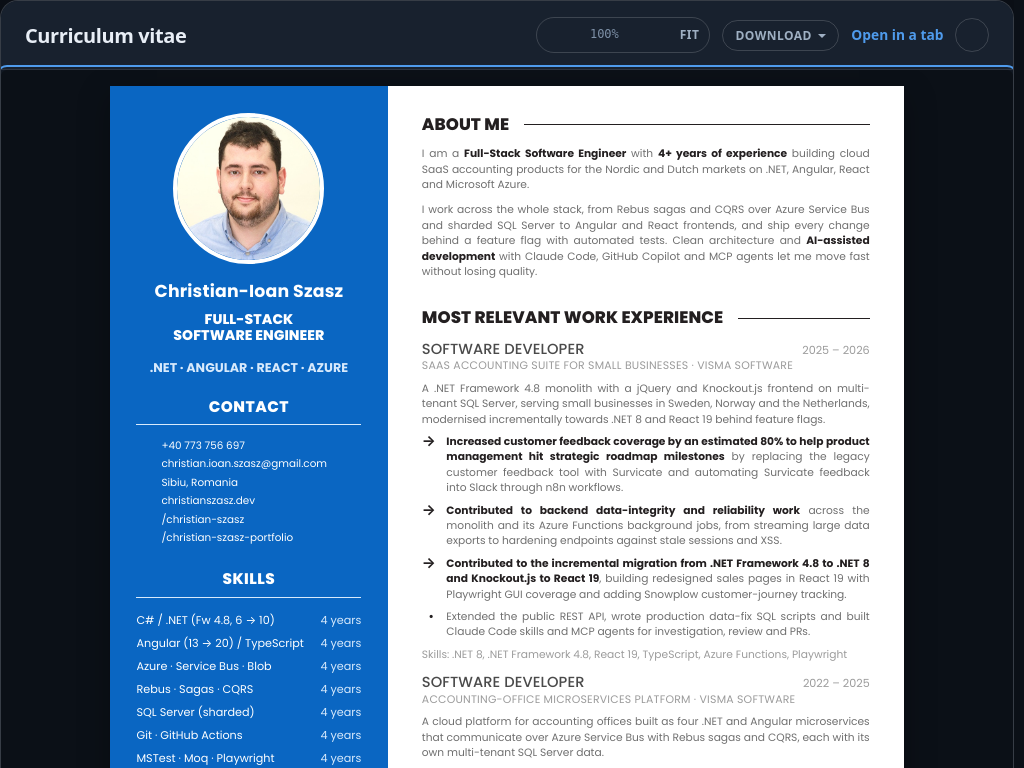
Test: CvViewerComponent › the download menu › offers the PDF and the source archive
Click the button with class "download__trigger": {"x": 781, "y": 36} [722,20,839,52]
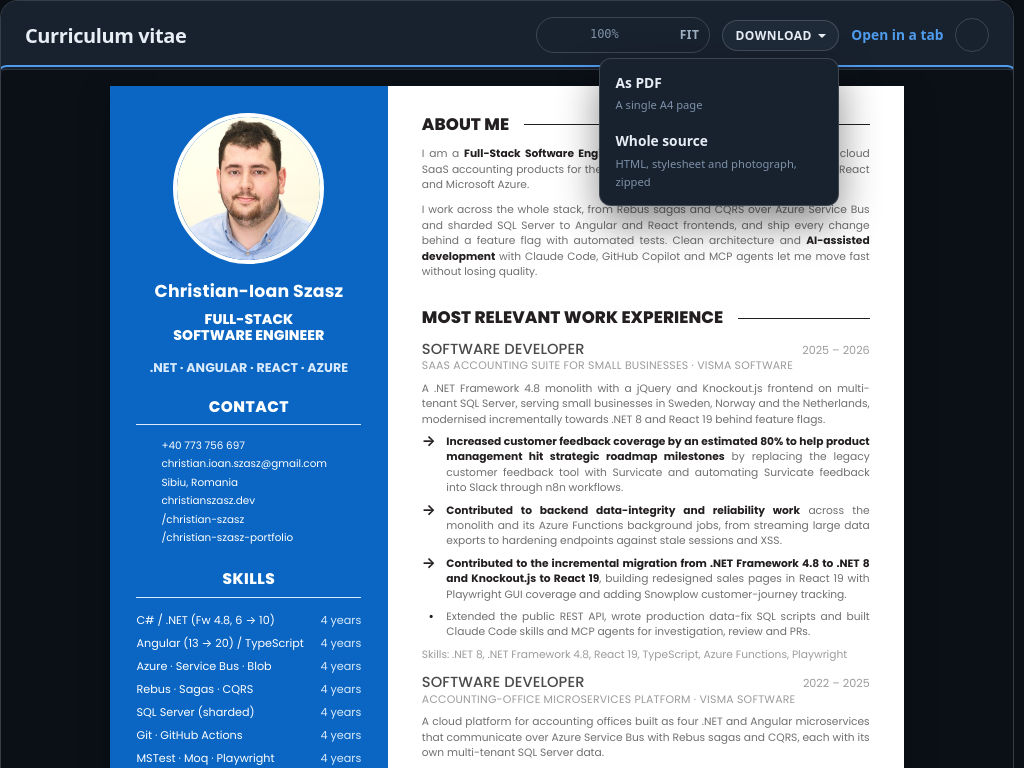
Expected: the menu item "As PDF A single A4 page" is shown, [605,64,834,122]
Expected: the menu item "Whole source HTML, stylesheet and photograph, zipped" is shown, [605,122,834,200]
